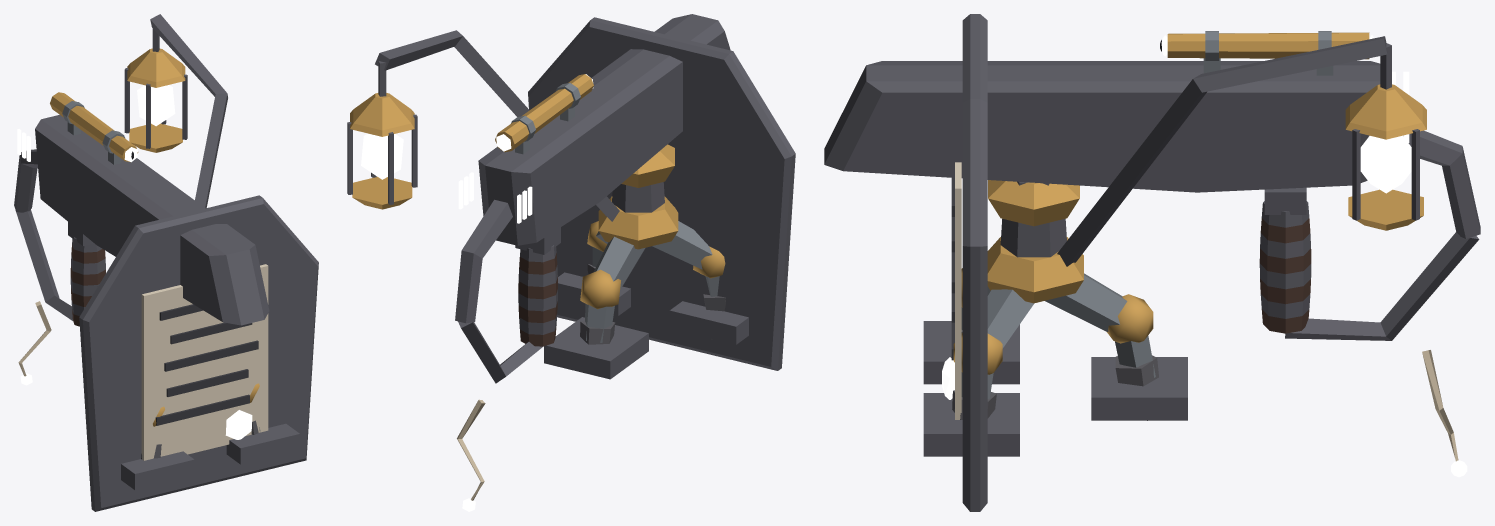
The model's file is gun-gate-piece.glb.
3 renders of one model, left to right at view 1: azimuth 30°, elevation 25°; view 2: azimuth 150°, elevation 25°; view 3: azimuth 270°, elevation 25°, orthographic. The views are drawn at different scales.
Parts seen in each view (by area): view 1: gun-gate-piece, sway_sinew, pulse_breath; view 2: gun-gate-piece, pulse_breath, sway_sinew; view 3: gun-gate-piece, sway_sinew.
Part boxes in pixels (x1,y1,x2,y2): gun-gate-piece: (14,14,318,511); sway_sinew: (18,301,51,385); pulse_breath: (17,129,30,161); gun-gate-piece: (347,14,795,383); pulse_breath: (458,172,532,223); sway_sinew: (457,399,485,511); gun-gate-piece: (824,14,1480,511); sway_sinew: (1422,350,1467,477).
Bounding box in the file's own units: 0.484 × 0.6737 × 0.7827.
